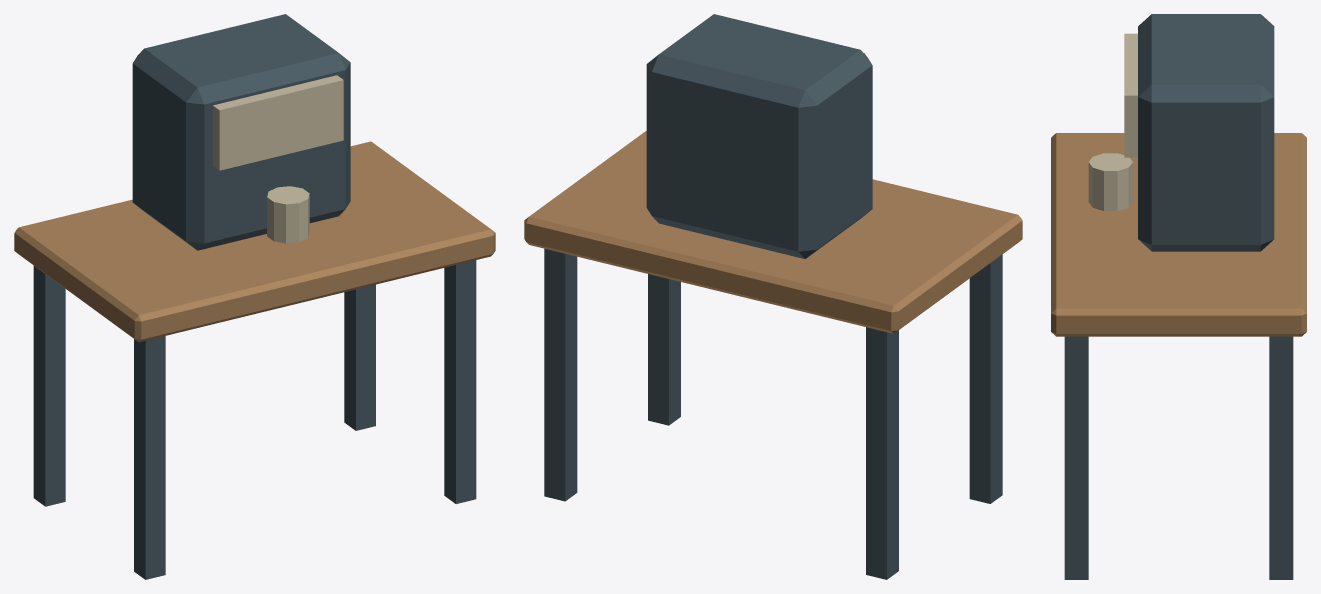
The model's file is coffee_station.glb.
3 renders of one model, left to right at view 1: azimuth 30°, elevation 25°; view 2: azimuth 150°, elevation 25°; view 3: azimuth 270°, elevation 25°, orthographic. The views are drawn at different scales.
Parts seen in each view (by area): view 1: coffee_station; view 2: coffee_station; view 3: coffee_station.
Boxes of the visible parts, x1,y1,x2,y2 form: coffee_station: [14, 14, 495, 579]; coffee_station: [524, 14, 1022, 579]; coffee_station: [1051, 14, 1306, 579].
Size of the model in its own units: 1.25 by 1.45 by 0.75.
